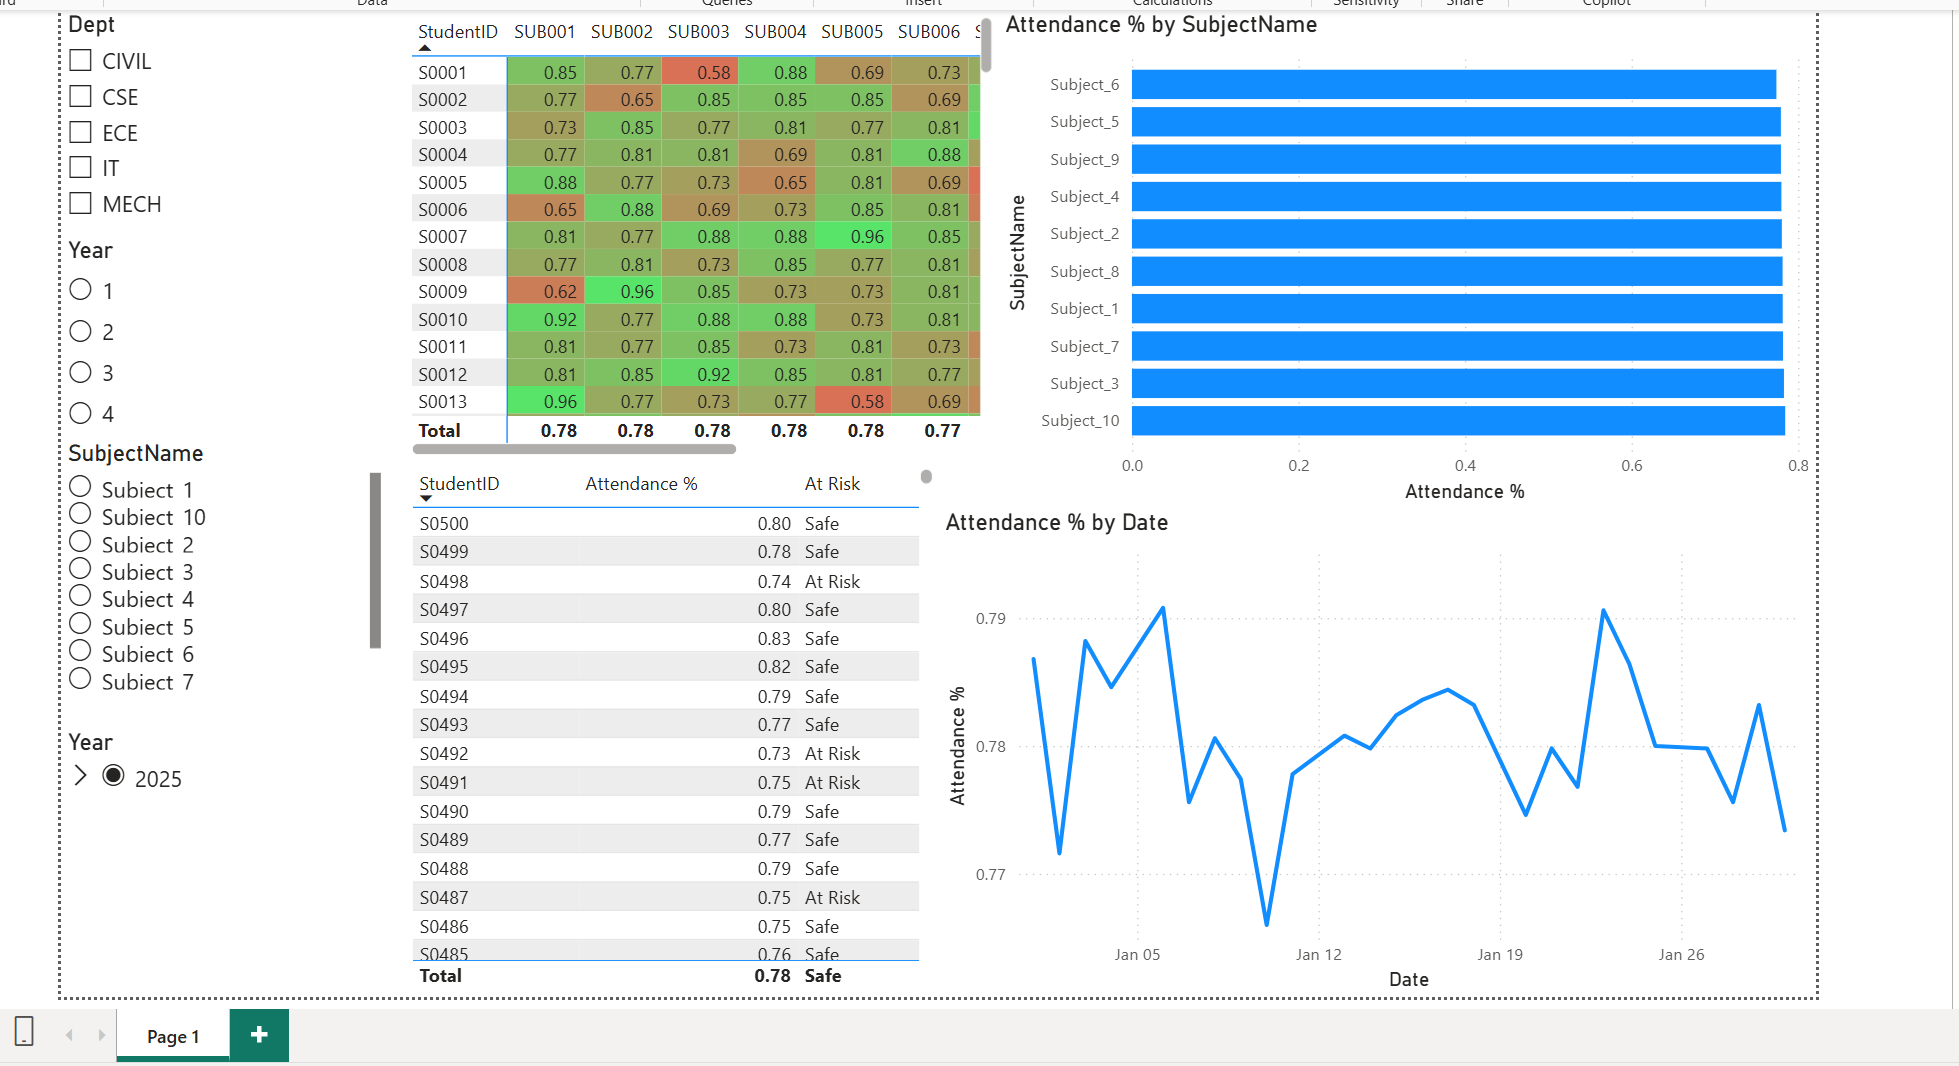

The dashboard page shown, as its layout file describes it:
{"tool":"powerbi","page":{"name":"Page 1","canvas":[1280,720],"ordinal":0},"visuals":[{"type":"pivotTable","fields":{"Rows":["student list.StudentID"],"Columns":["attendance.SubjectCode"],"Values":["attendance.Attendance %"]},"box":[250.1,0,433.8,329.9],"z":0},{"type":"clusteredBarChart","fields":{"Category":["subject.SubjectName"],"Y":["attendance.Attendance %"]},"box":[683.6,0,596,363.3],"z":1000},{"type":"tableEx","fields":{"Values":["attendance.StudentID","attendance.Attendance %","attendance.At Risk"]},"box":[250.1,329.9,390.3,389.1],"z":2000},{"type":"lineChart","fields":{"Y":["attendance.Attendance %"],"Category":["attendance.Date"]},"box":[640.5,363.3,639,356.1],"z":3000},{"type":"listSlicer","fields":{"Values":["student list.Dept"]},"box":[0,0,250.1,239.2],"z":4000},{"type":"listSlicer","fields":{"Values":["student list.Year"]},"box":[0,165.5,250.1,270.7],"z":5000},{"type":"listSlicer","fields":{"Values":["subject.SubjectName"]},"box":[0,313,238,190.9],"z":6000},{"type":"listSlicer","fields":{"Values":["attendance.Date.Variation.Date Hierarchy.Year","attendance.Date.Variation.Date Hierarchy.Quarter","attendance.Date.Variation.Date Hierarchy.Month","attendance.Date.Variation.Date Hierarchy.Day"]},"box":[0,524.4,238,195.7],"z":7000}]}

Visuals, with their boxes on the page's 1280x720 design canvas (x1, y1, x2, y2). These are canvas units, not pixel positions in the 1959x1066 screenshot, which may show the page scaled, cropped or inside an application window:
pivotTable - student list.StudentID x attendance.SubjectCode: [x1=250, y1=0, x2=684, y2=330]
clusteredBarChart - subject.SubjectName x attendance.Attendance %: [x1=684, y1=0, x2=1280, y2=363]
tableEx - attendance.StudentID x attendance.Attendance %: [x1=250, y1=330, x2=640, y2=719]
lineChart - attendance.Attendance % x attendance.Date: [x1=640, y1=363, x2=1280, y2=719]
listSlicer - student list.Dept: [x1=0, y1=0, x2=250, y2=239]
listSlicer - student list.Year: [x1=0, y1=166, x2=250, y2=436]
listSlicer - subject.SubjectName: [x1=0, y1=313, x2=238, y2=504]
listSlicer - attendance.Date.Variation.Date Hierarchy.Year x attendance.Date.Variation.Date Hierarchy.Quarter: [x1=0, y1=524, x2=238, y2=720]
